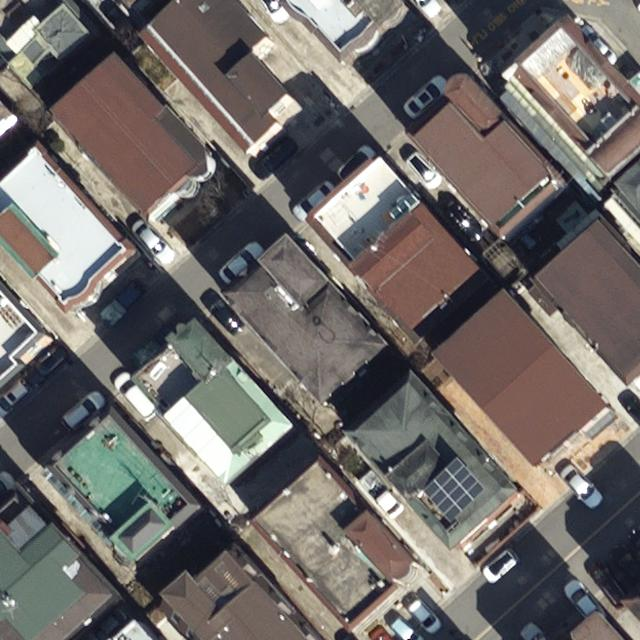panel: (420, 455, 488, 527)
